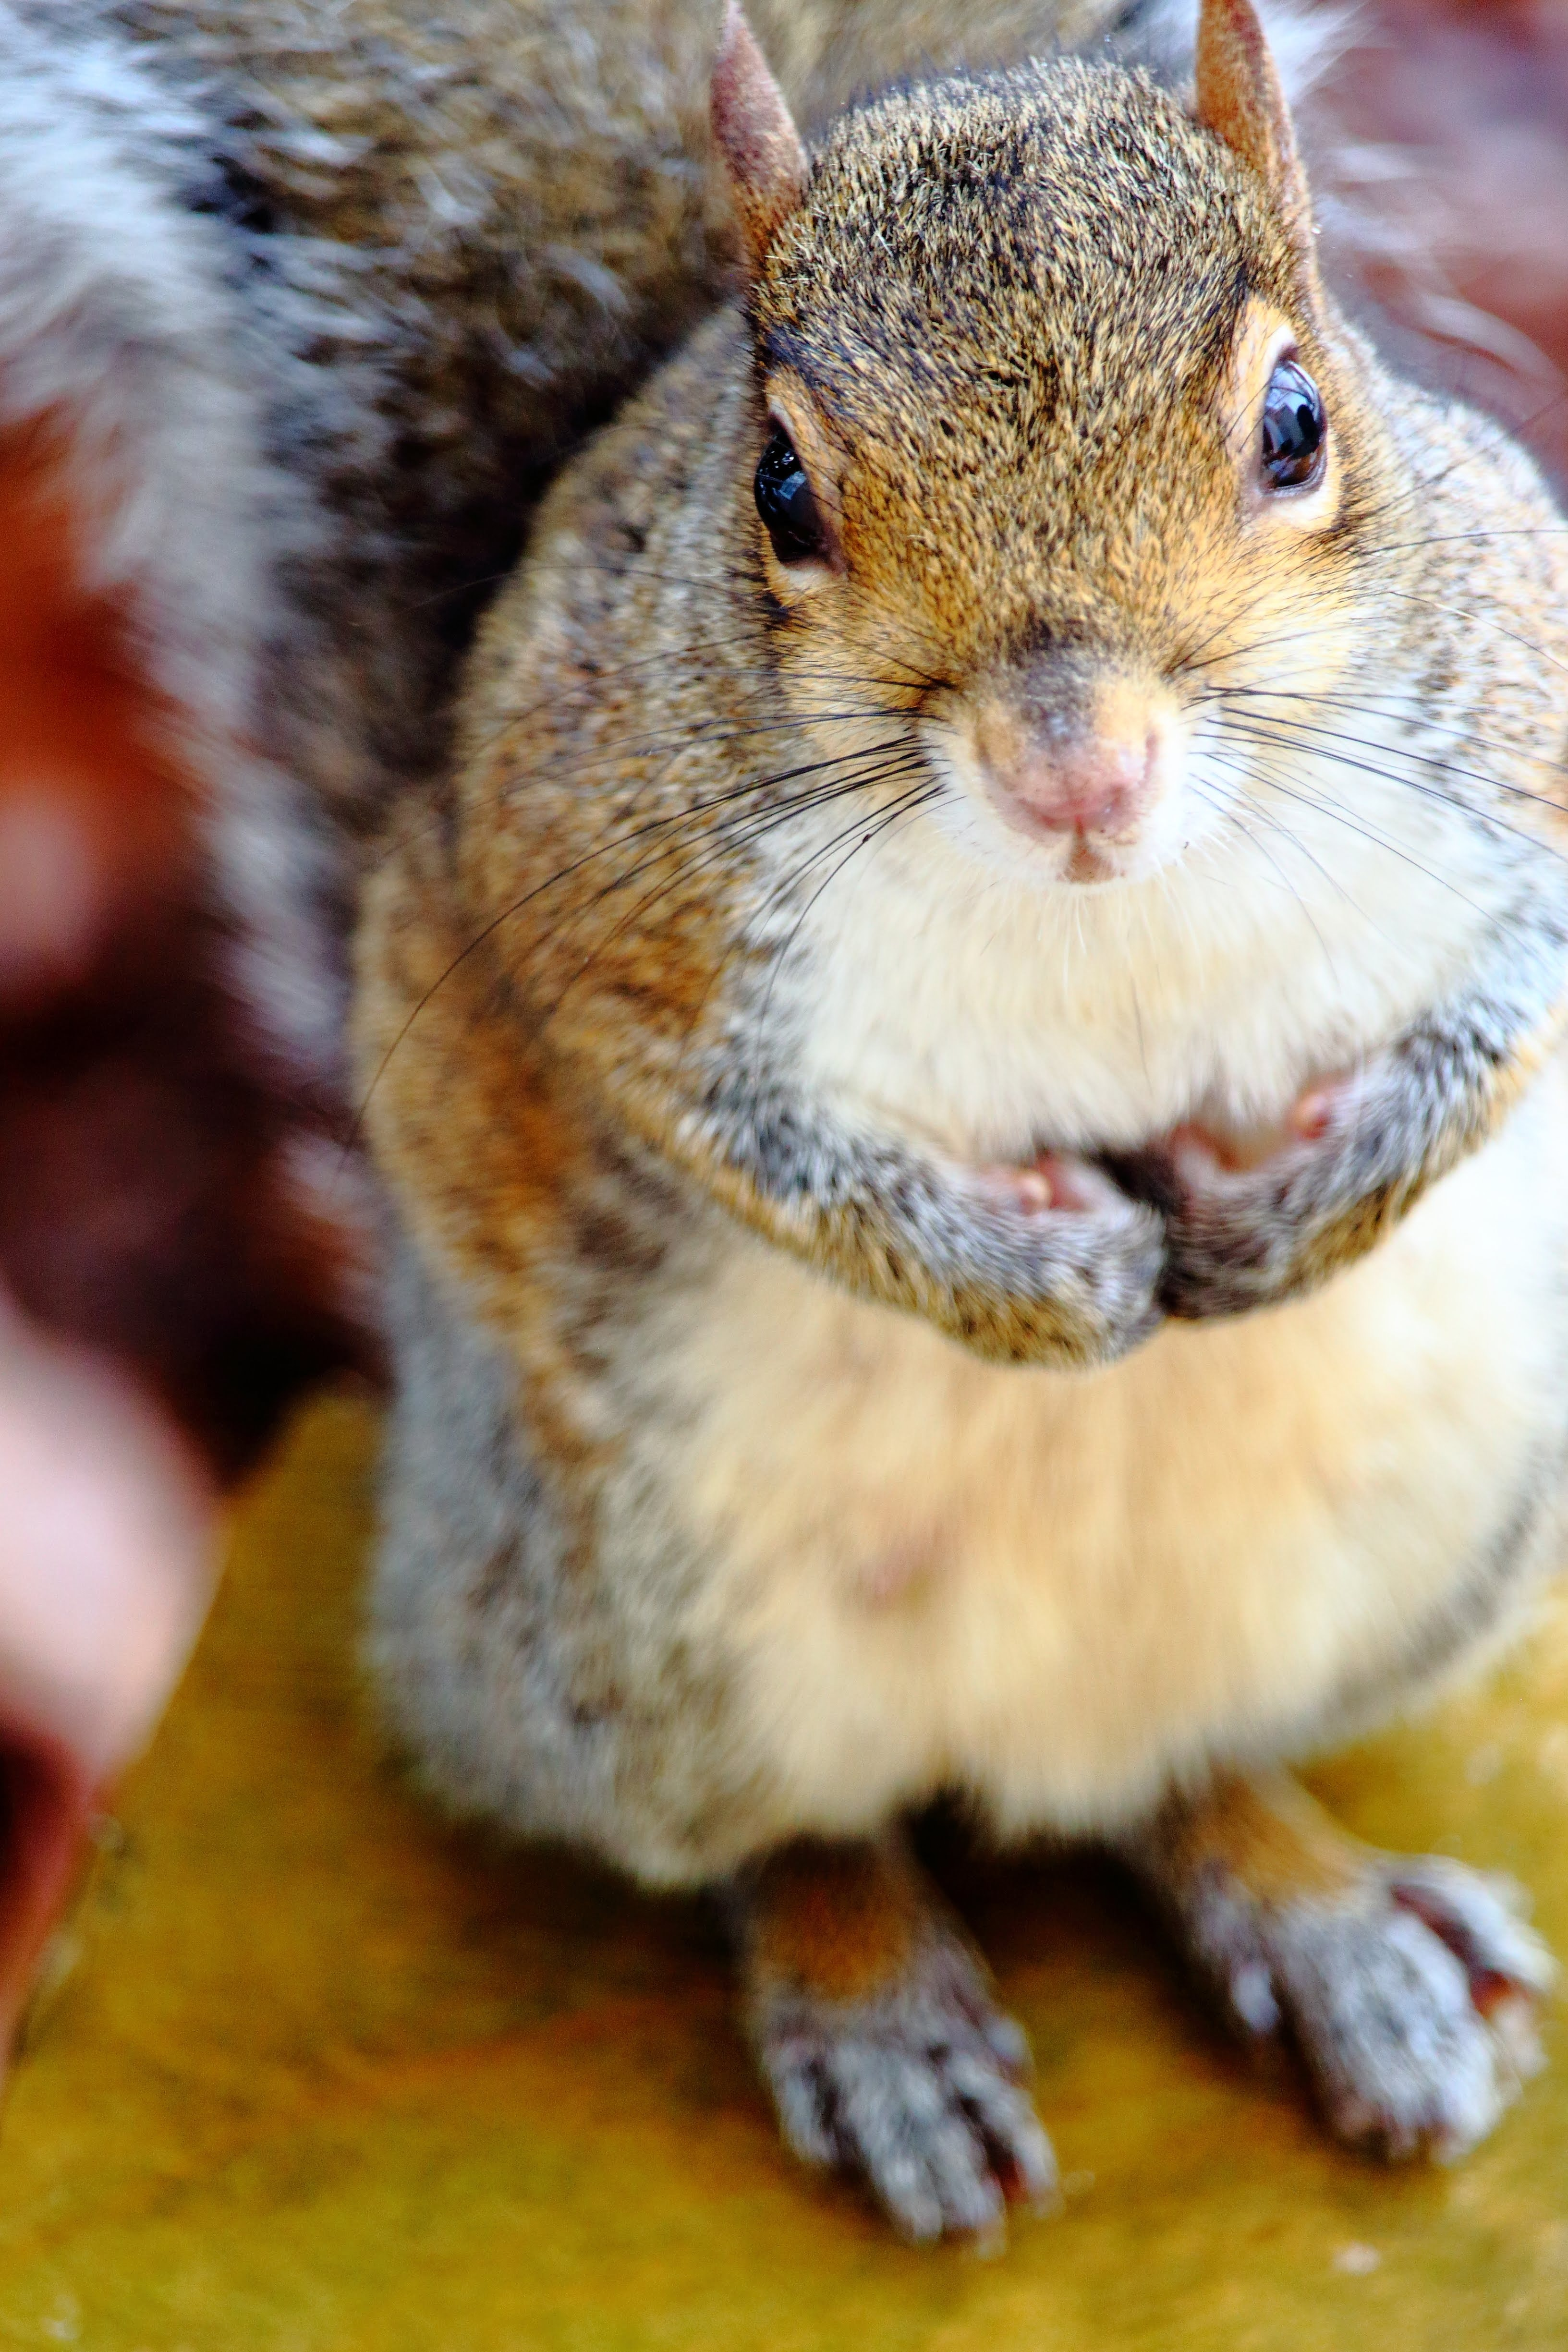squirrel: (320, 5, 1568, 2275)
